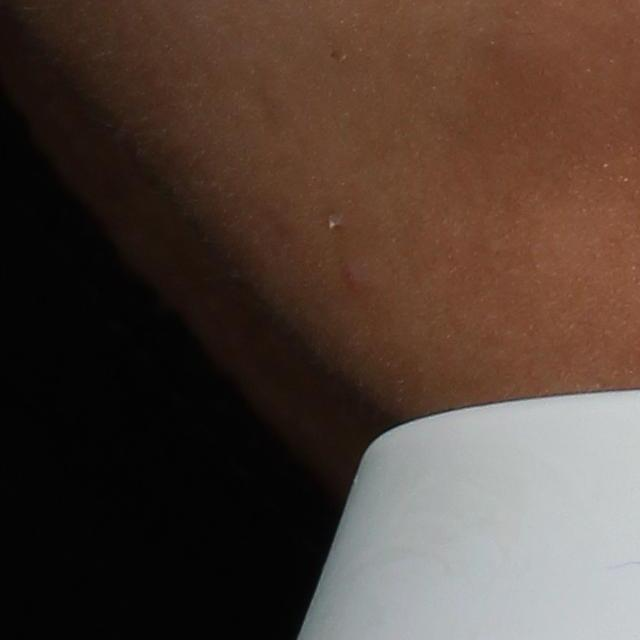papule: (337, 263, 369, 294)
